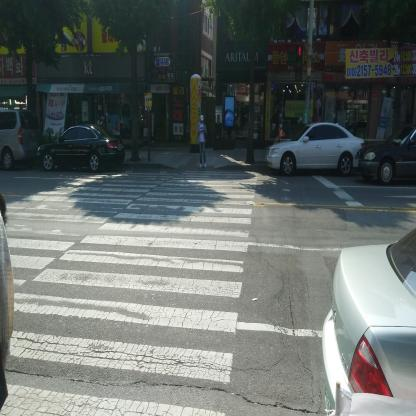Red: (295, 44, 303, 81)
